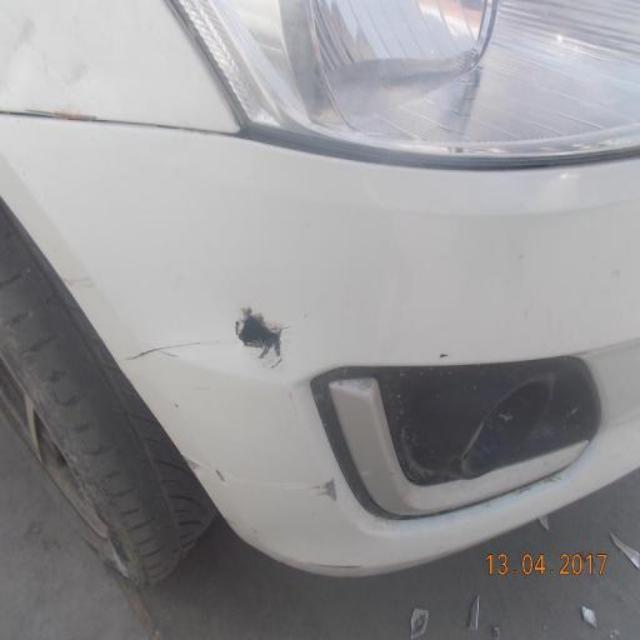crack: (229, 306, 294, 369), (124, 332, 220, 370), (311, 471, 340, 509)
lamp broken: (383, 355, 601, 492)
scratch: (182, 450, 233, 484)
